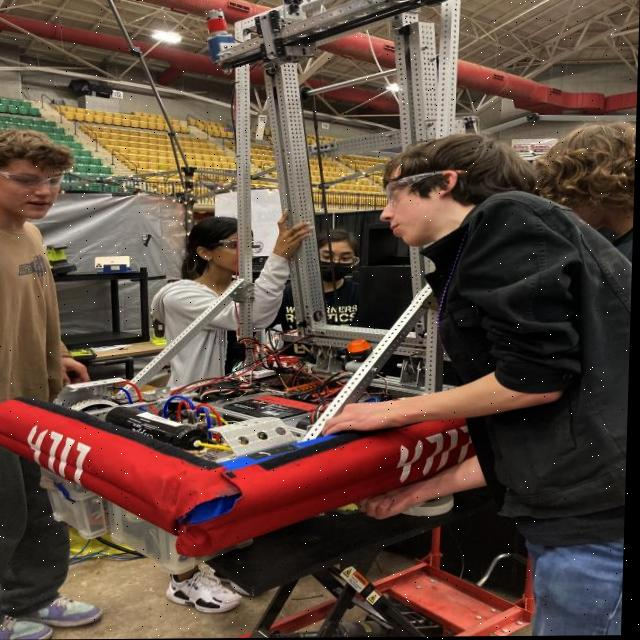robot: (0, 0, 594, 566)
